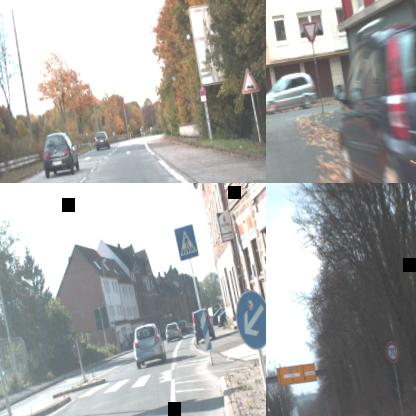give way: (300, 20, 320, 46)
keep left: (231, 286, 266, 351)
speed limit 70: (384, 339, 400, 363)
uneven road: (238, 65, 260, 94)
